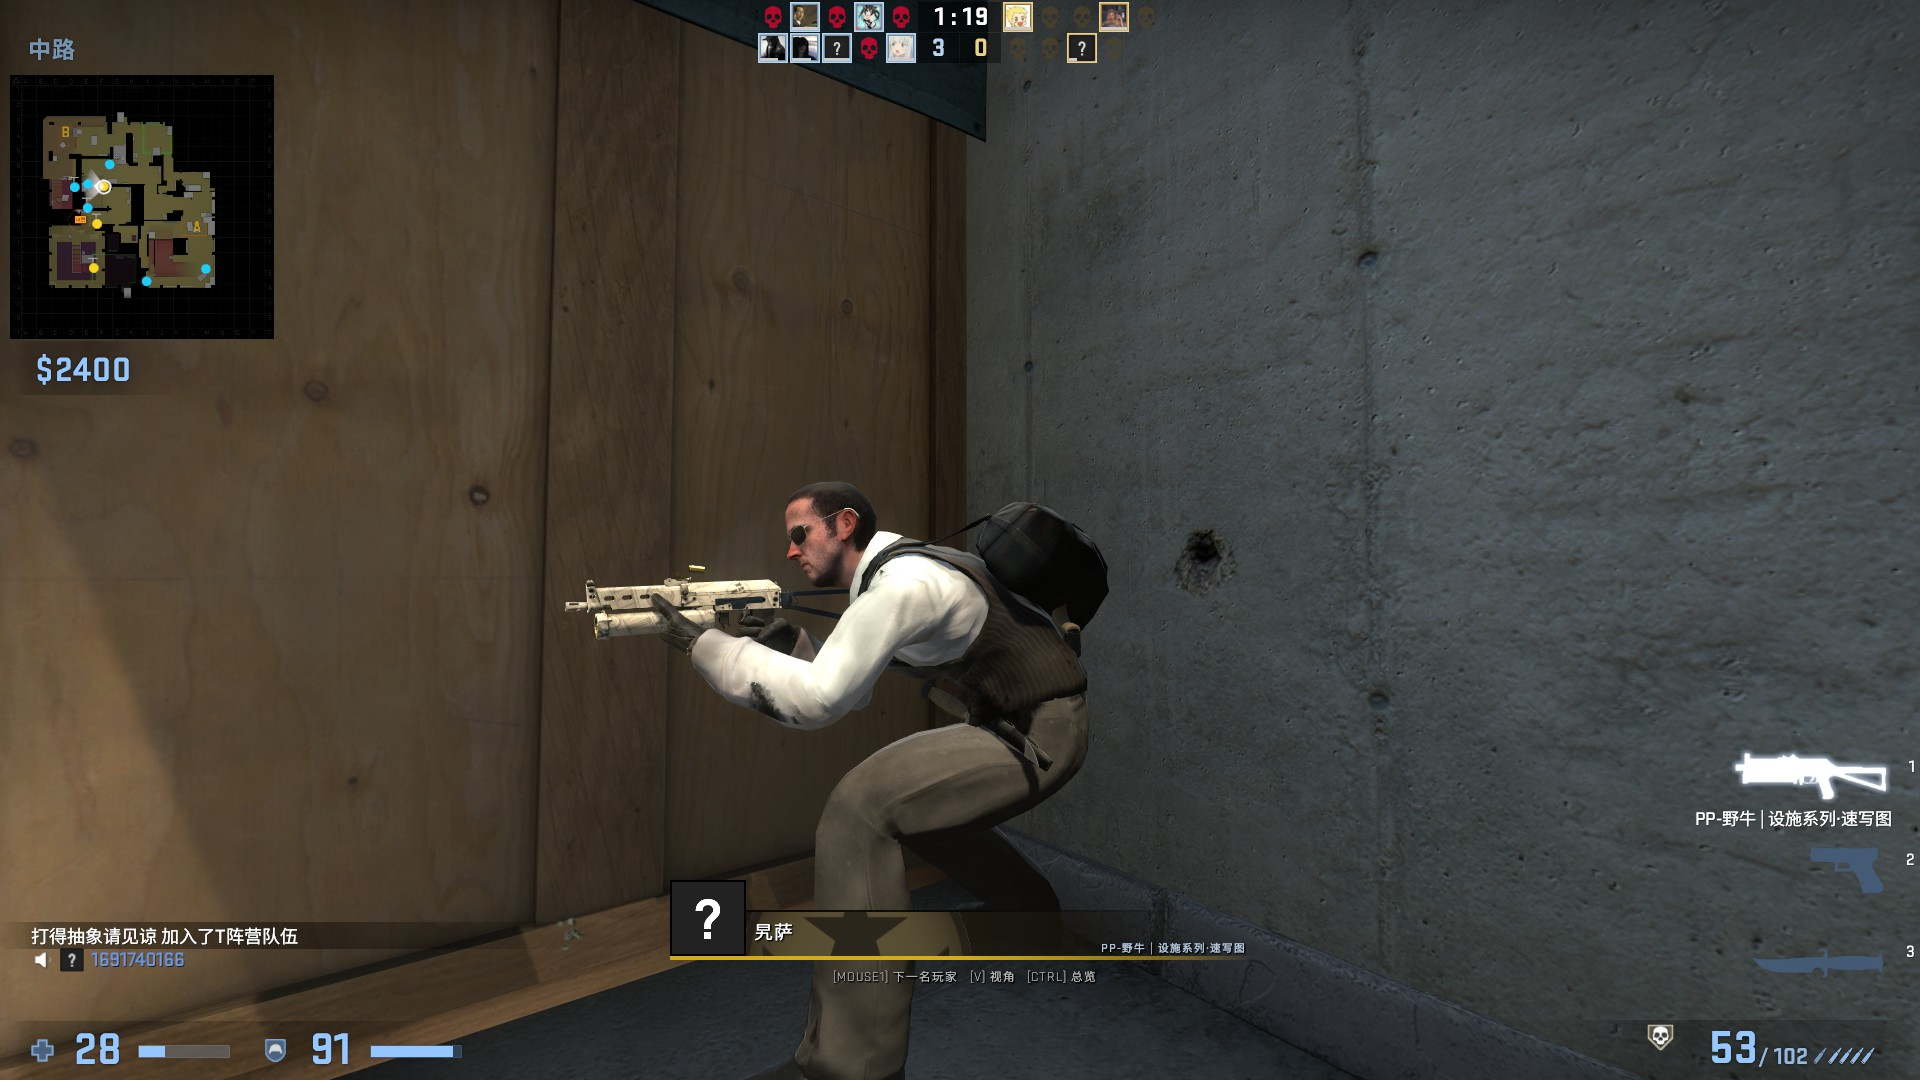head: (776, 472, 872, 591)
